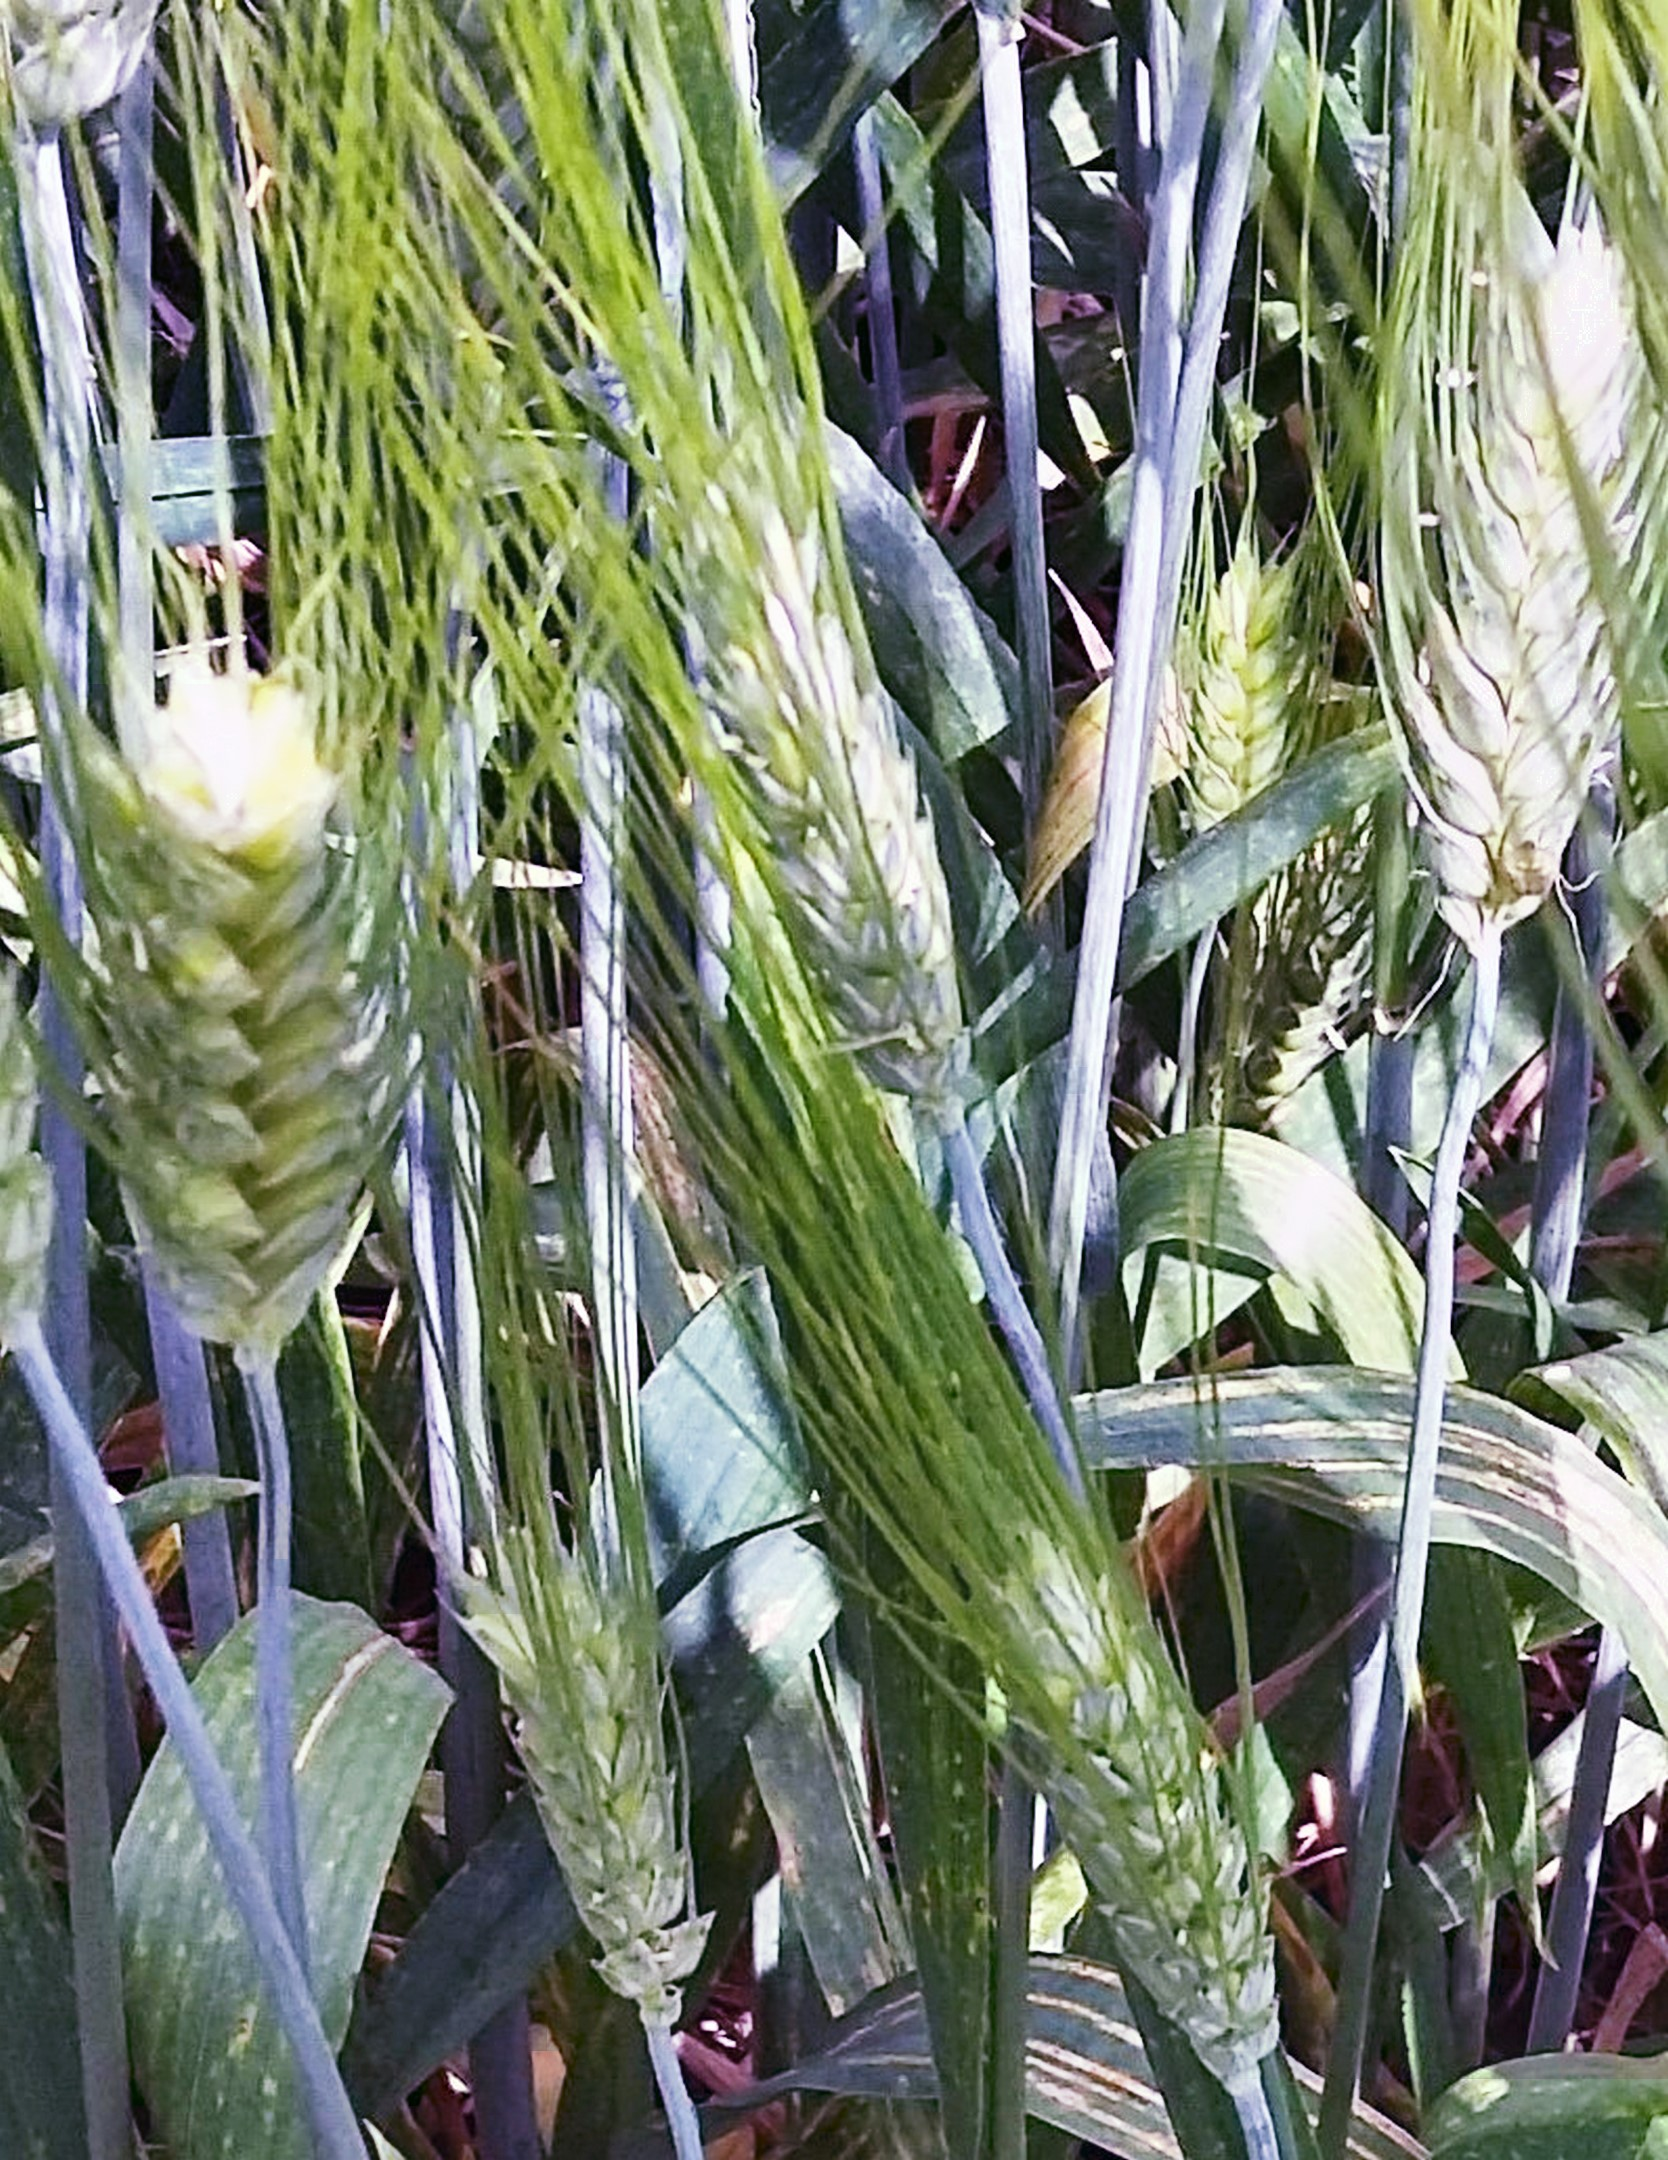Healthy Wheat: (21, 641, 417, 1352), (895, 1519, 1396, 2051)
